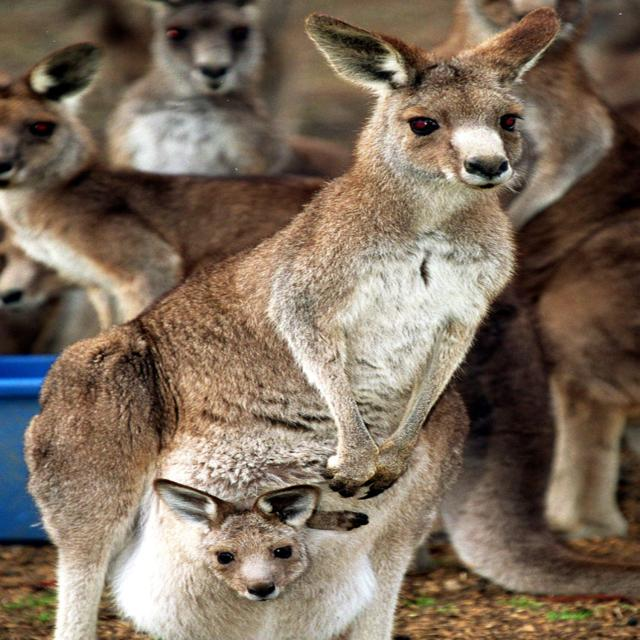Kangaroo: (36, 18, 574, 638), (125, 463, 392, 640)
